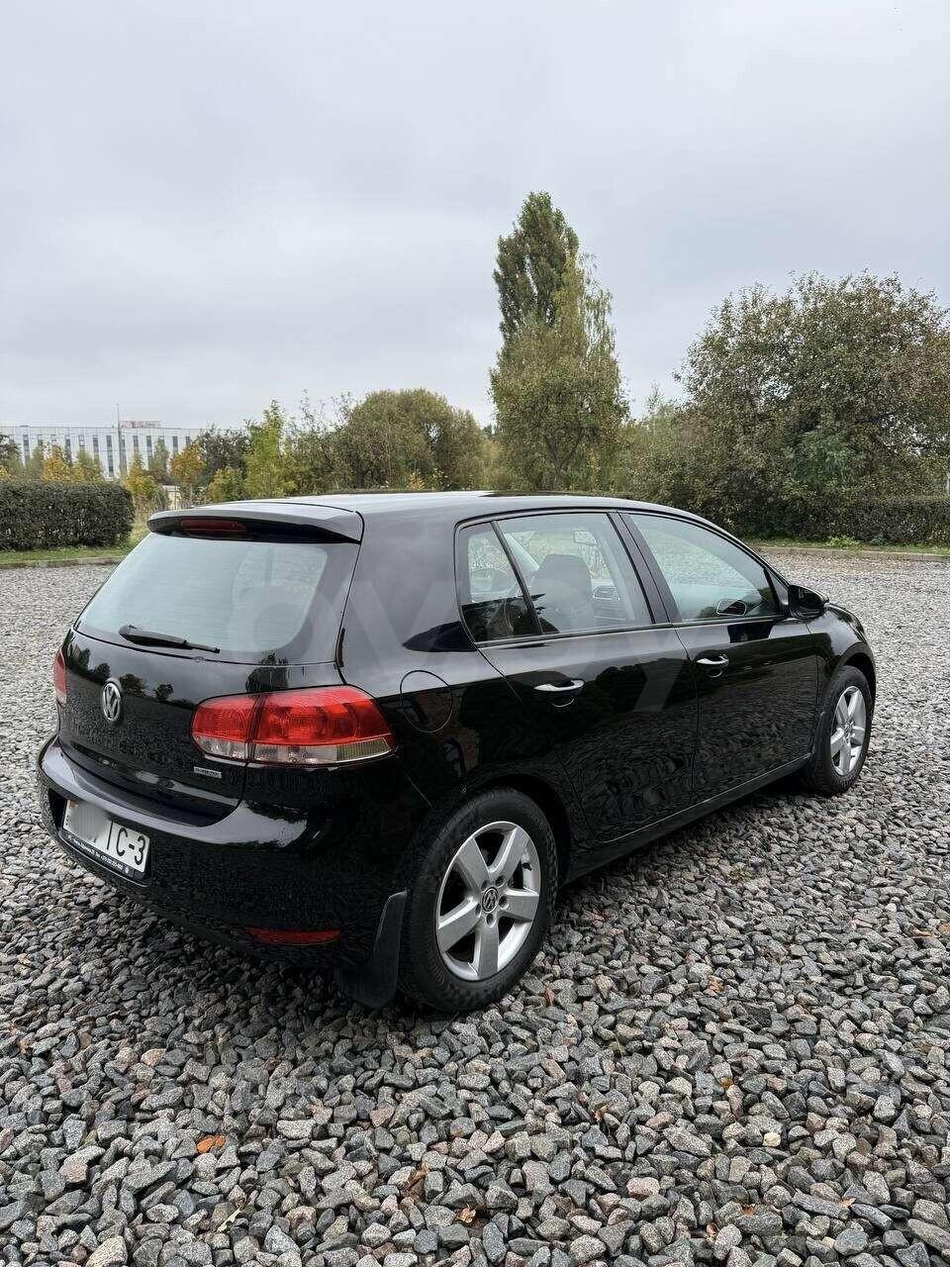Golf_2008-2013: (17, 481, 897, 1002)
